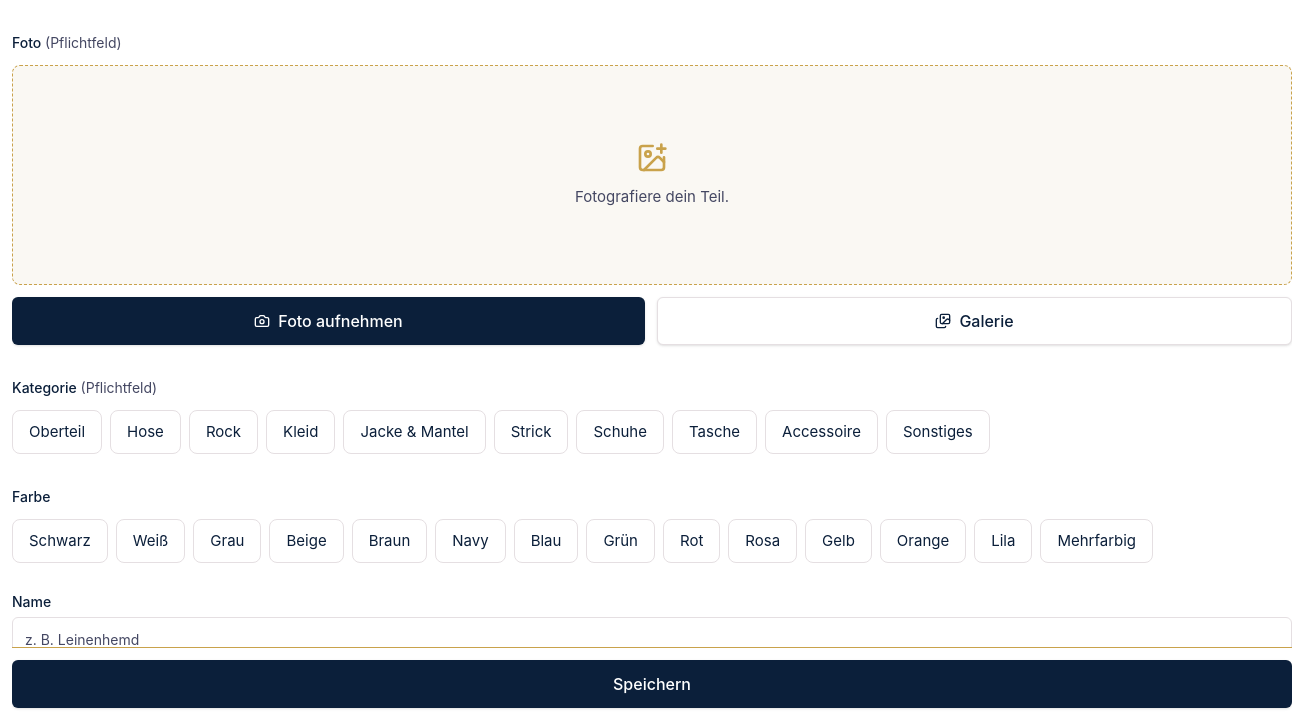
Scenario: ItemForm › asks for a photo and a category before saving
The image size is (1304, 720).
Click the button "Speichern". click: (652, 684)
box: 12,660 -> 1292,708
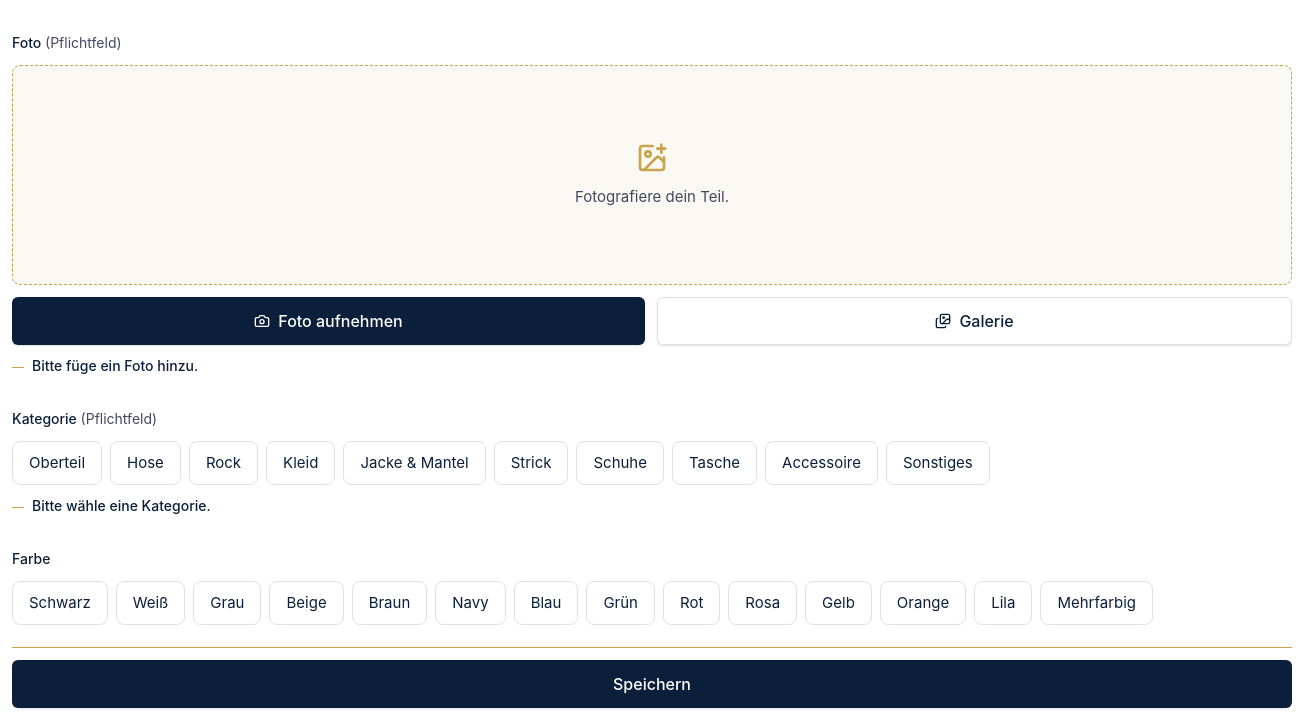
Result: the text "Bitte füge ein Foto hinzu." is shown at 32,357 -> 198,374
Result: the text "Bitte wähle eine Kategorie." is shown at 32,497 -> 211,514
